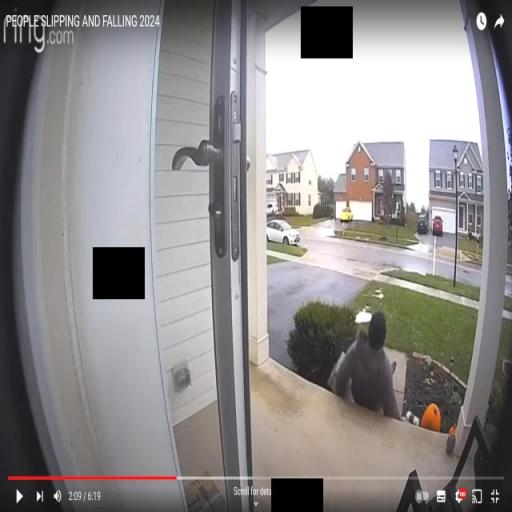Fall: (332, 308, 402, 422)
